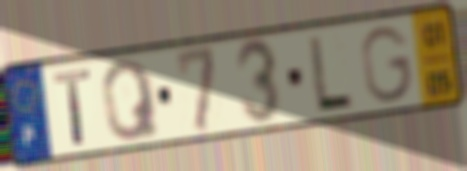3: (234, 34, 284, 130)
7: (172, 42, 218, 137)
G: (358, 23, 417, 106)
L: (306, 32, 357, 112)
Q: (99, 57, 163, 144)
T: (50, 65, 96, 149)
